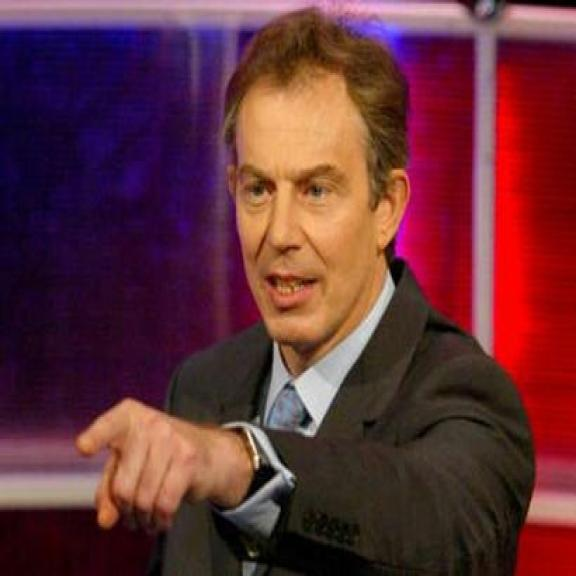face: (232, 70, 412, 352)
